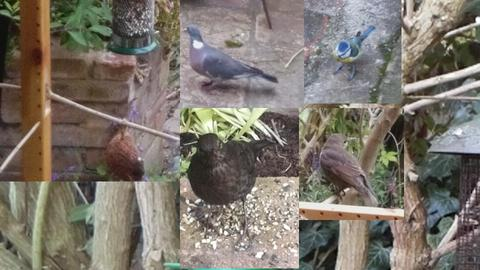blackbird: (186, 133, 274, 244)
blue tit: (332, 25, 376, 82)
starling: (319, 133, 379, 207)
wood pigeon: (182, 25, 279, 91)
